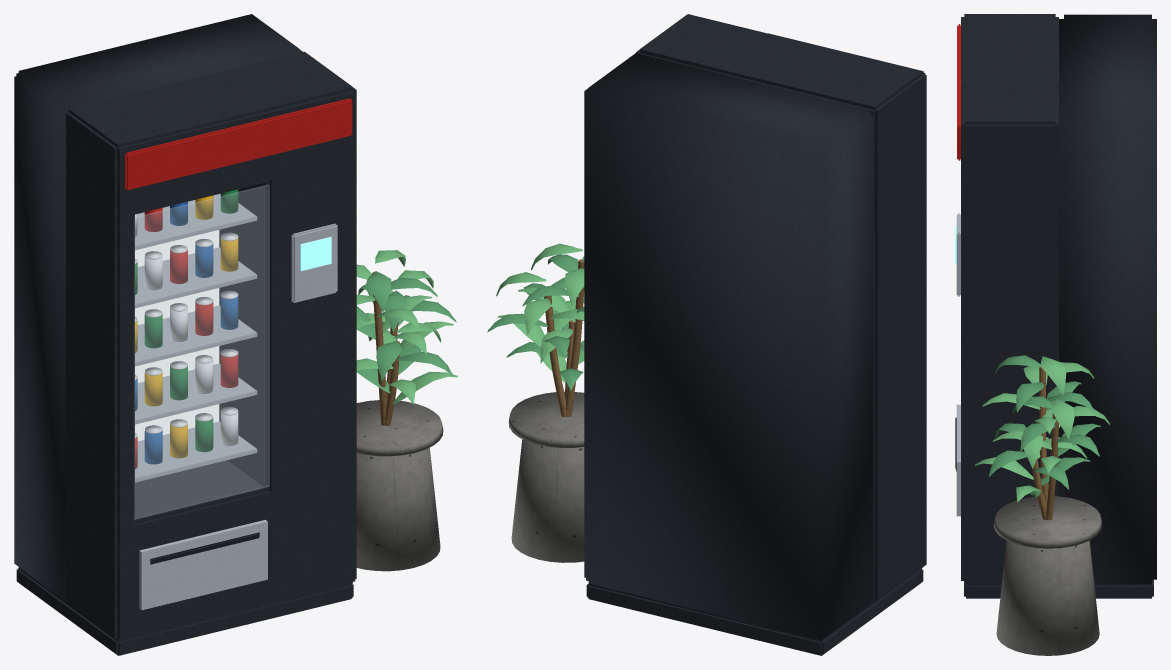
Rendered from decor_vending_lounge.glb.
3 renders of one model, left to right at view 1: azimuth 30°, elevation 25°; view 2: azimuth 150°, elevation 25°; view 3: azimuth 270°, elevation 25°, orthographic. The views are drawn at different scales.
Visible parts, largest first — view 1: DecorVendingLounge, Vending_Glass; view 2: DecorVendingLounge; view 3: DecorVendingLounge.
Boxes of the visible parts, <box> form: DecorVendingLounge: <box>14,14,457,655</box>; Vending_Glass: <box>134,184,269,519</box>; DecorVendingLounge: <box>487,14,926,655</box>; DecorVendingLounge: <box>955,14,1156,655</box>.
Bounding box in the file's own units: 1.52 × 1.94 × 0.742.
Materials: 15 (9 with a texture image).
